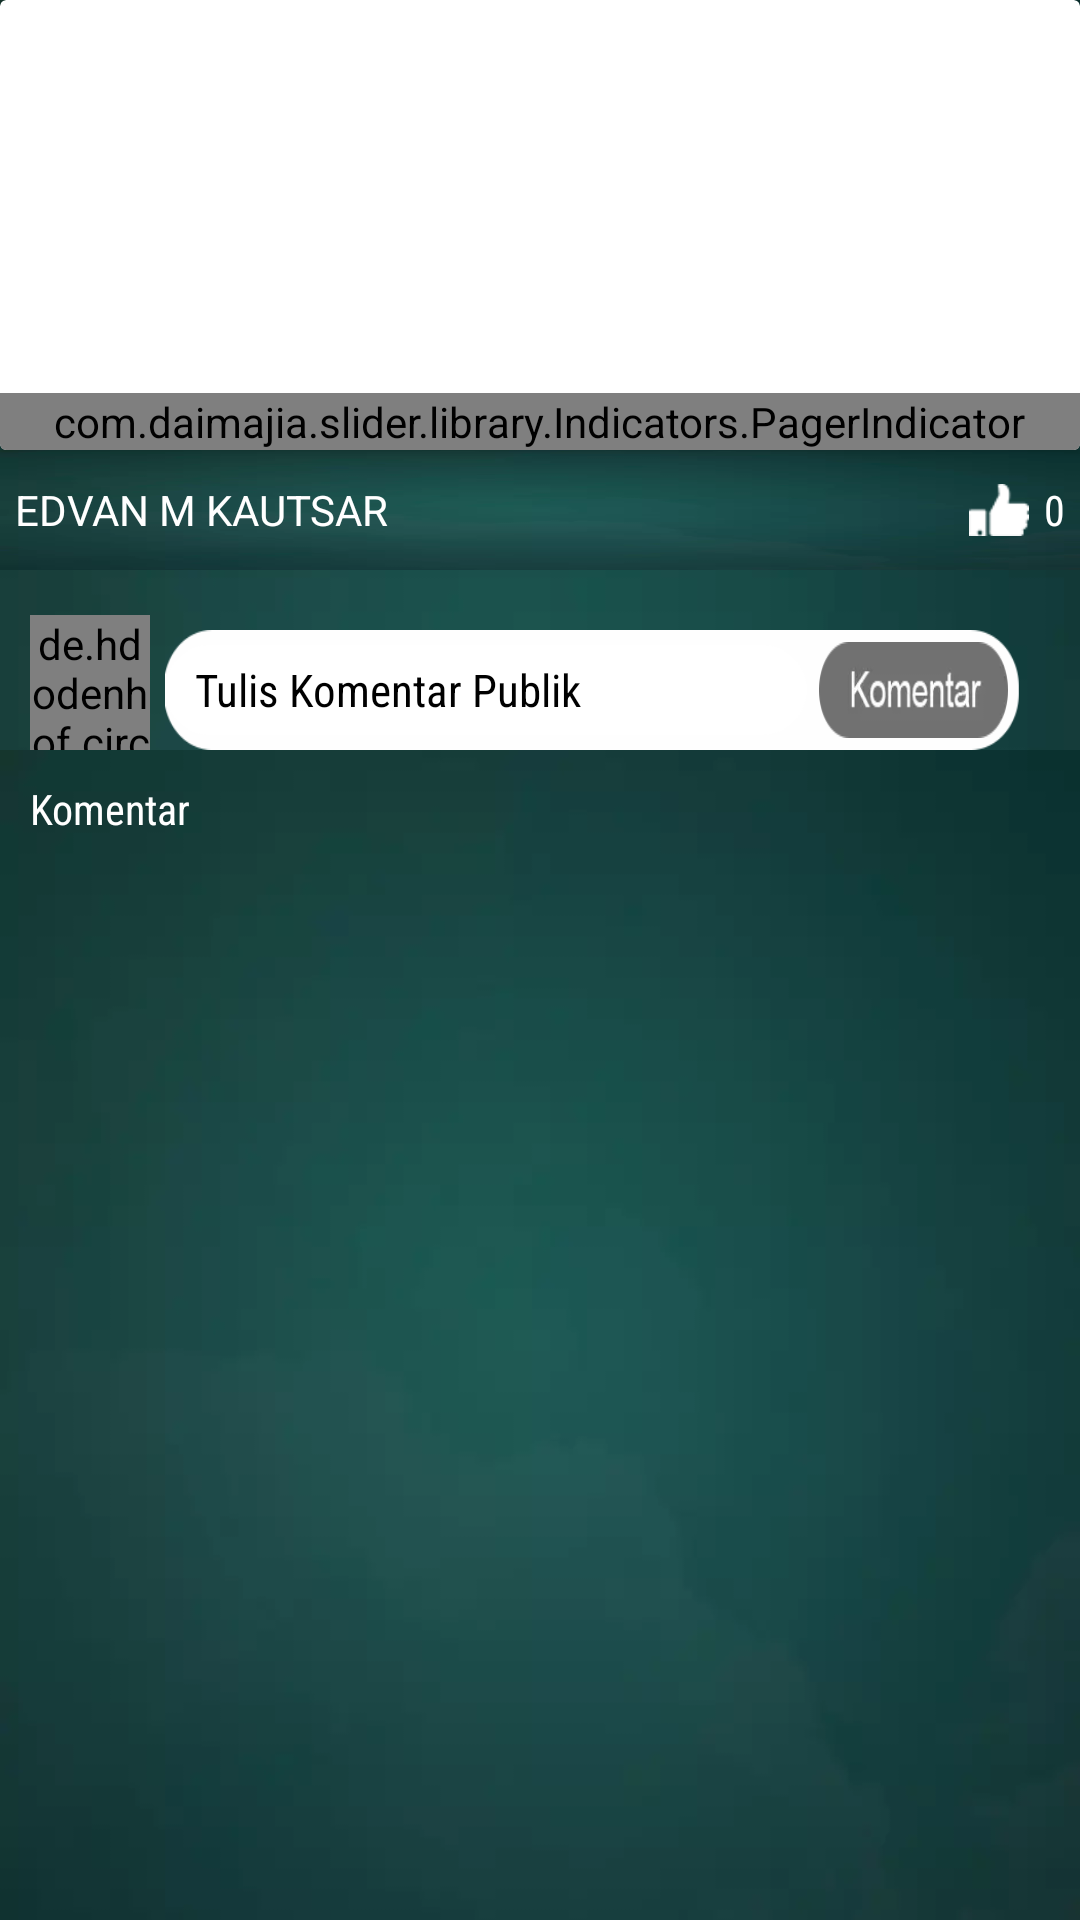

Screen size 1080×1920. Icon name, then its center in pixels as [x,y]:
iconlike: [999,510]
